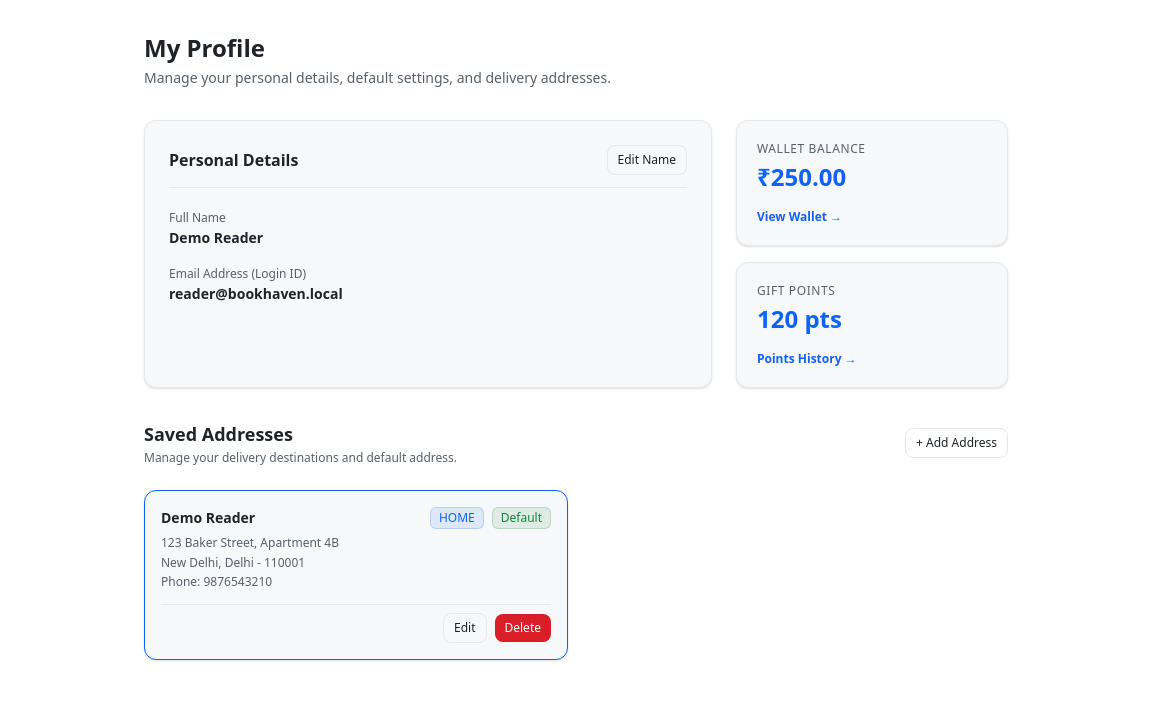
it: ProfilePageTest › editNameSaves: a new name is sent and the form closes
Click the button "Edit Name": click(647, 160) left=606, top=145, right=687, bottom=175
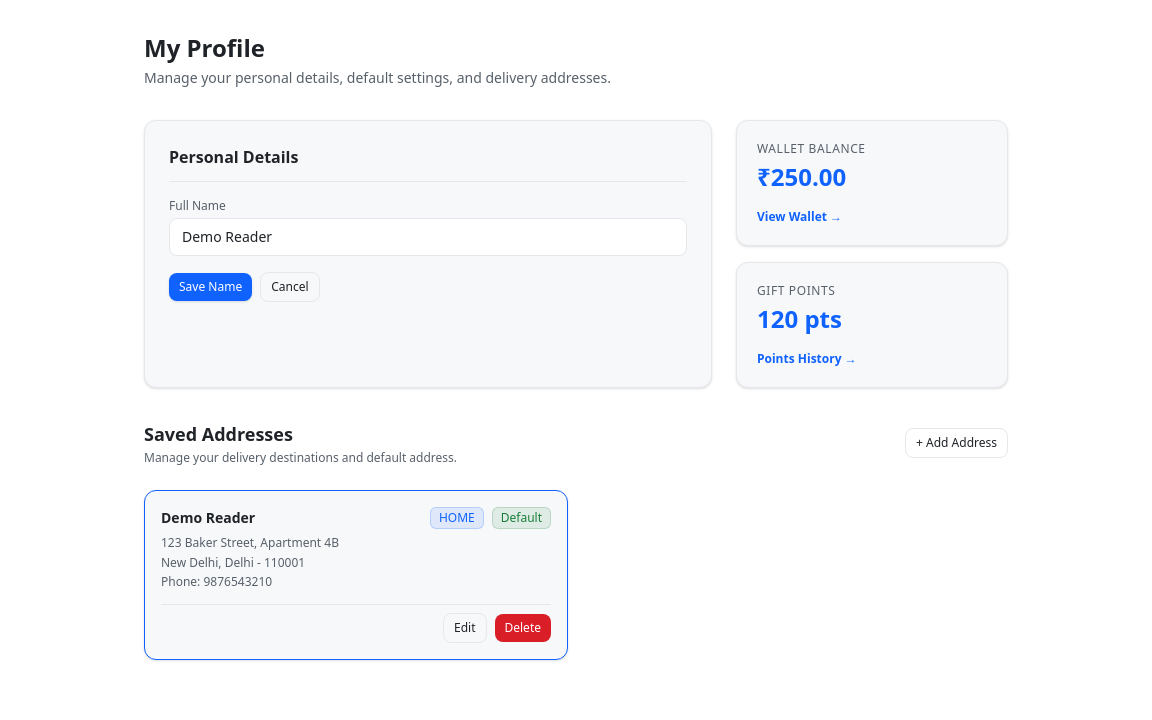
Replace the text in the field labelled "Full Name" with "Asha Reader": (428, 237) left=169, top=218, right=687, bottom=256
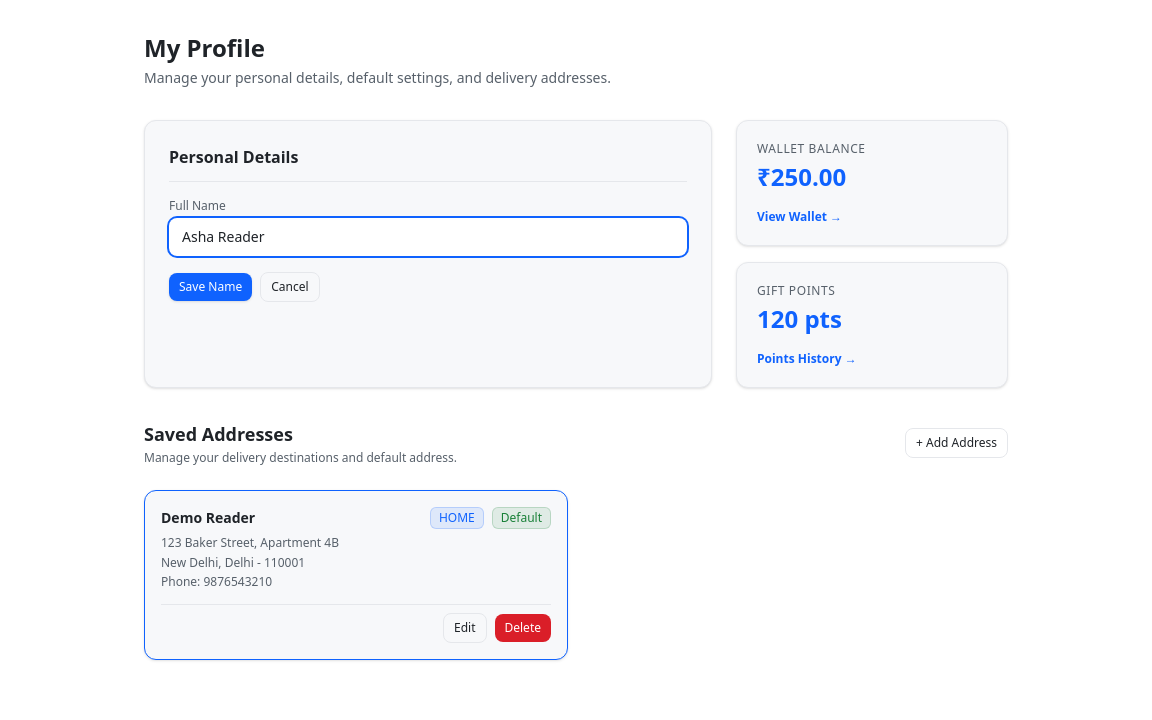
Click the button "Save Name": click(211, 287) left=169, top=273, right=252, bottom=301
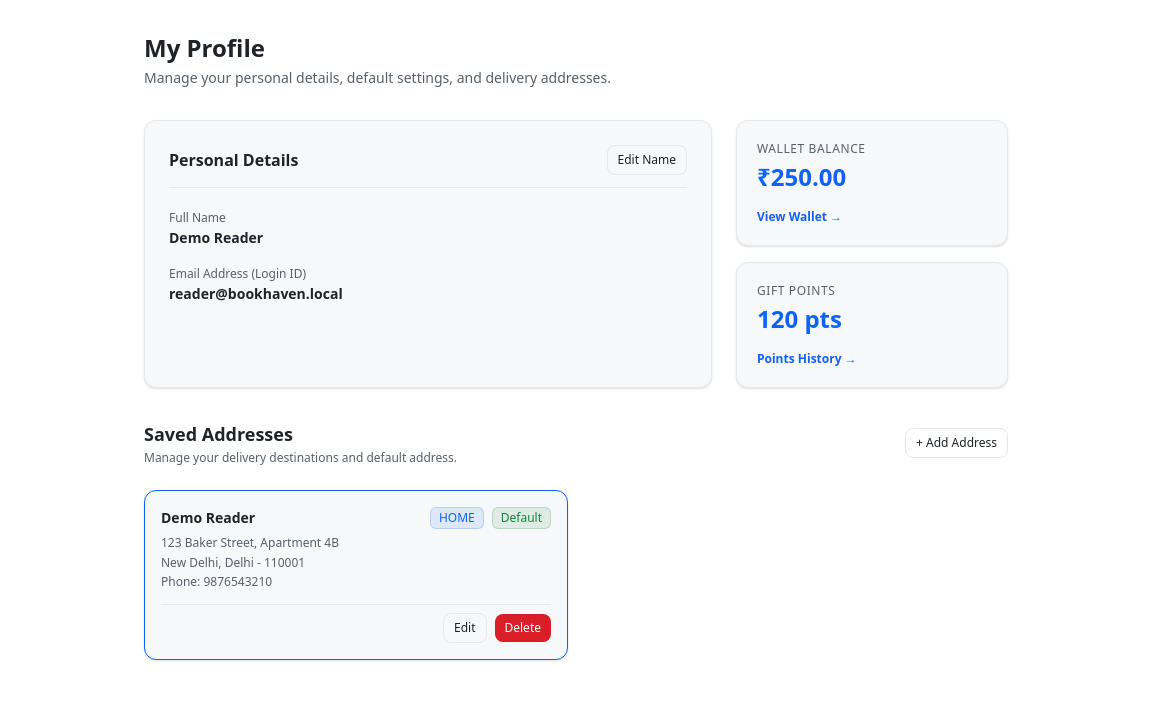
Expected: the button "Save Name" is gone
